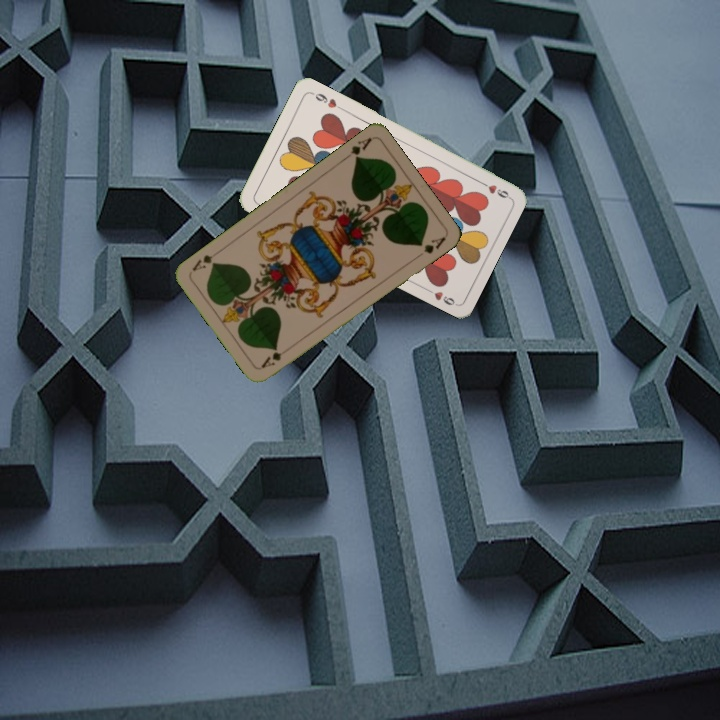GA: (339, 134, 375, 164), (257, 342, 293, 371)
H9: (474, 176, 512, 201)
